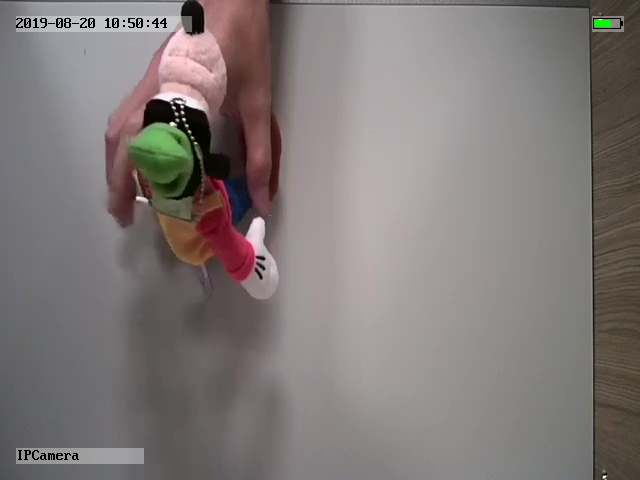goofy: (126, 2, 280, 300)
